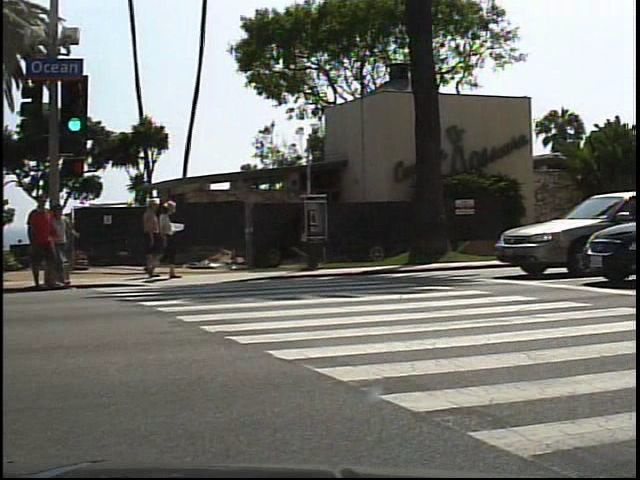person: (27, 194, 57, 302), (50, 200, 73, 286)
